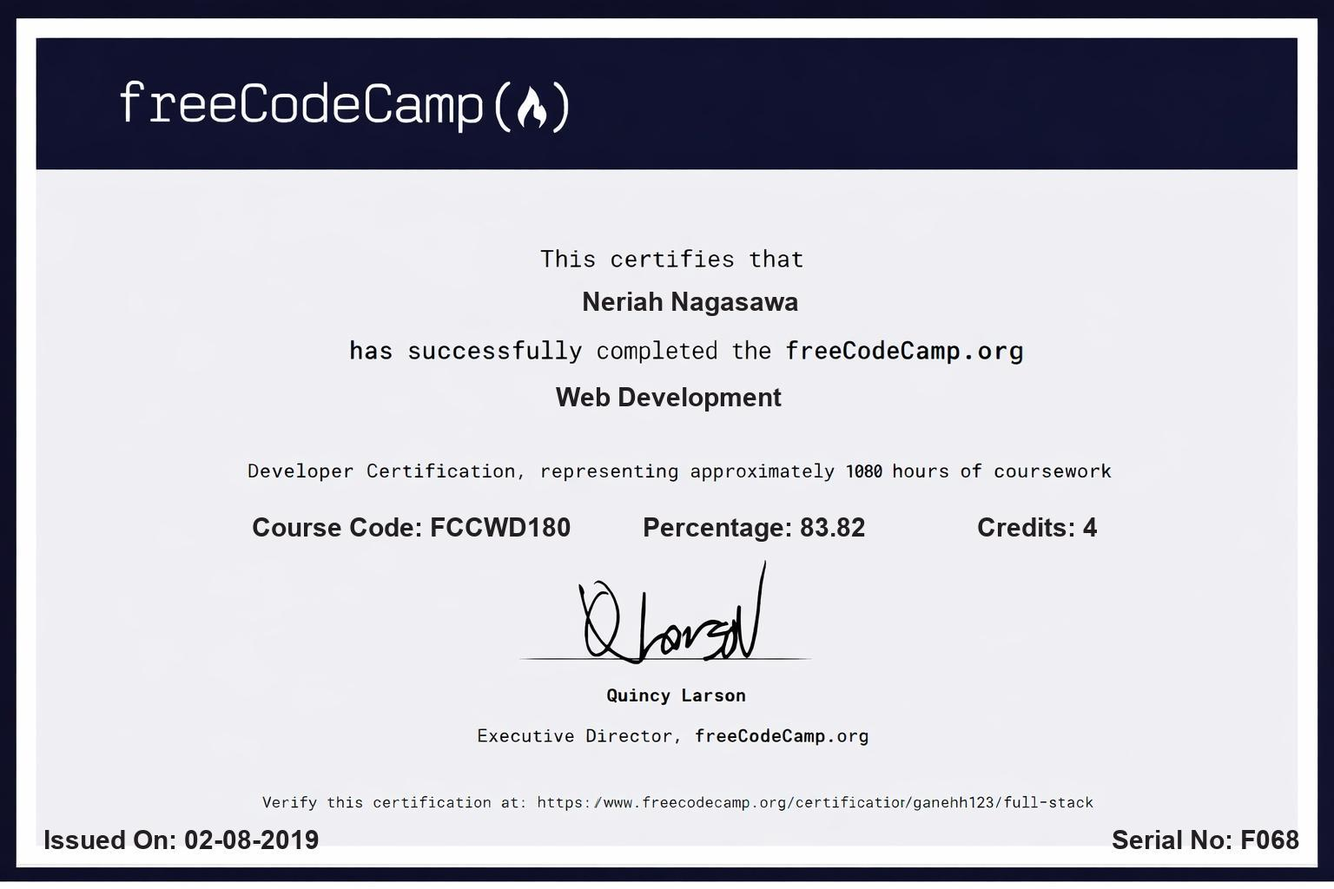Course Code: (424, 507, 585, 552)
Course Name: (549, 371, 792, 420)
Credits: (1078, 511, 1106, 545)
Issued On: (178, 819, 326, 857)
Percentage: (795, 507, 875, 547)
Serial No: (1235, 821, 1309, 857)
Student Name: (573, 281, 809, 323)
